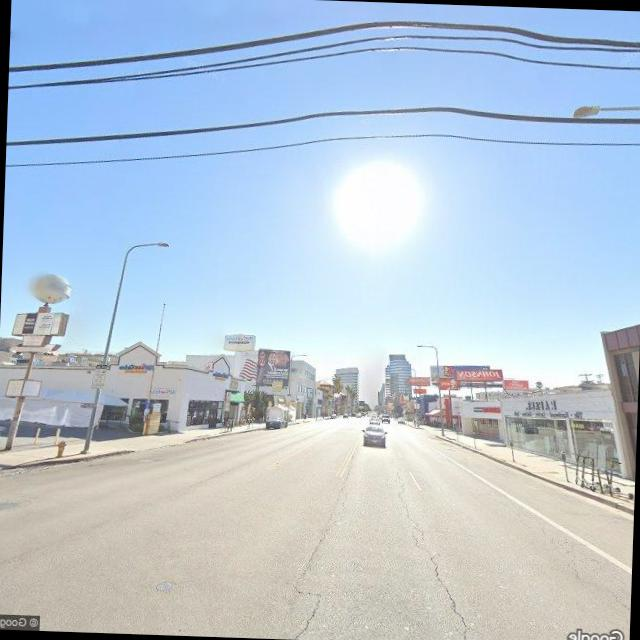pothole: (386, 465, 489, 640), (288, 453, 358, 633)
